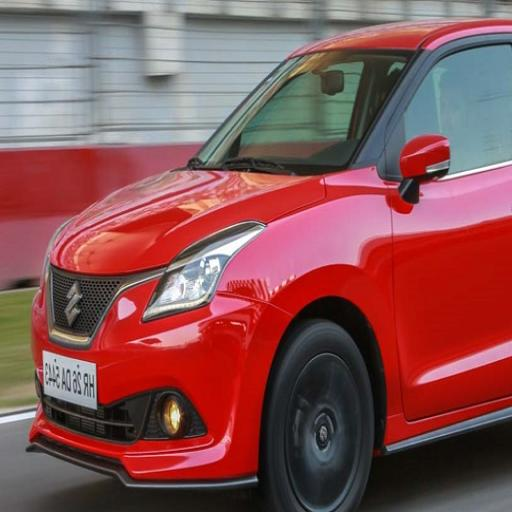License: (43, 346, 99, 410)
